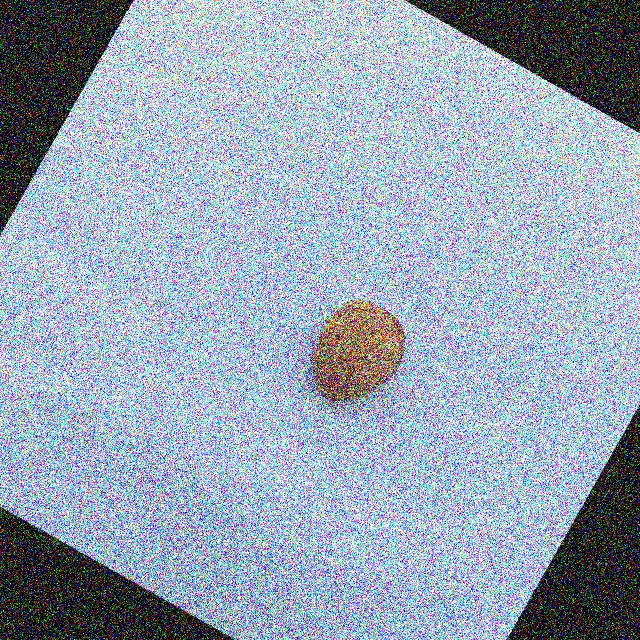grade1: (281, 276, 429, 432)
